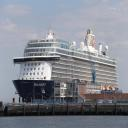cruises: (12, 24, 122, 107)
